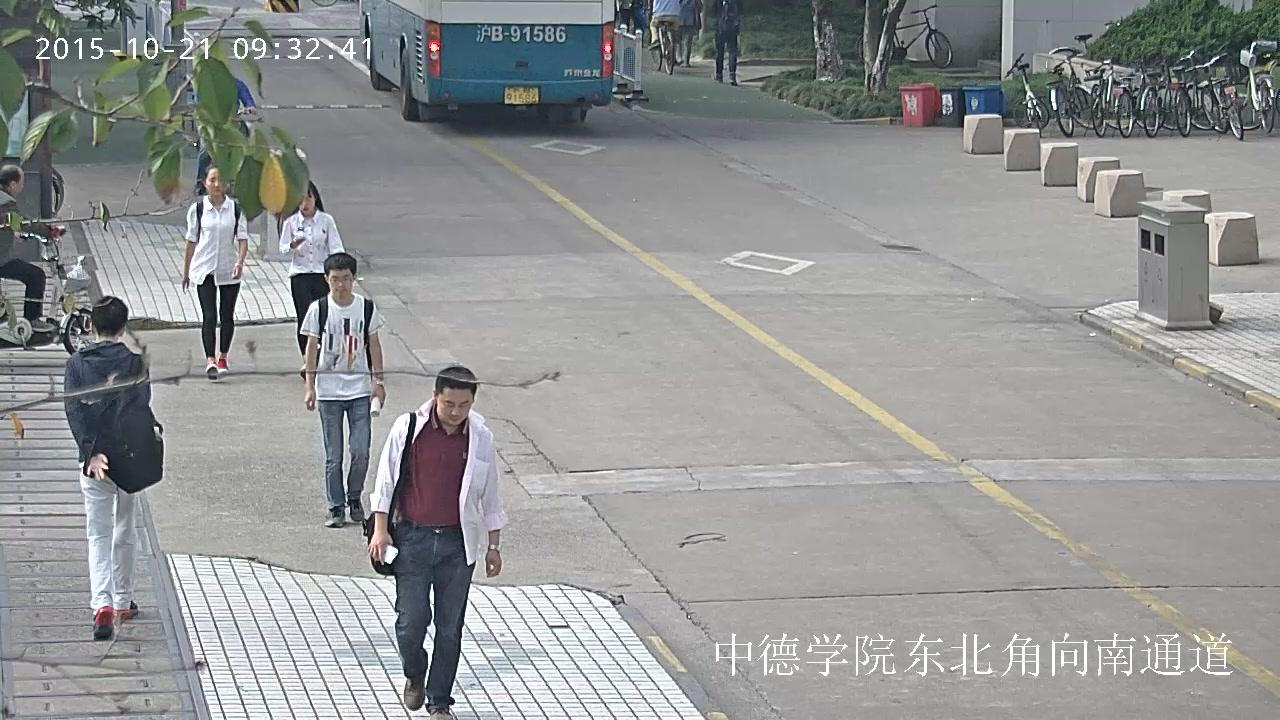face: (437, 387, 473, 426), (328, 269, 353, 300), (206, 168, 224, 196), (299, 189, 315, 214), (14, 172, 23, 192)
